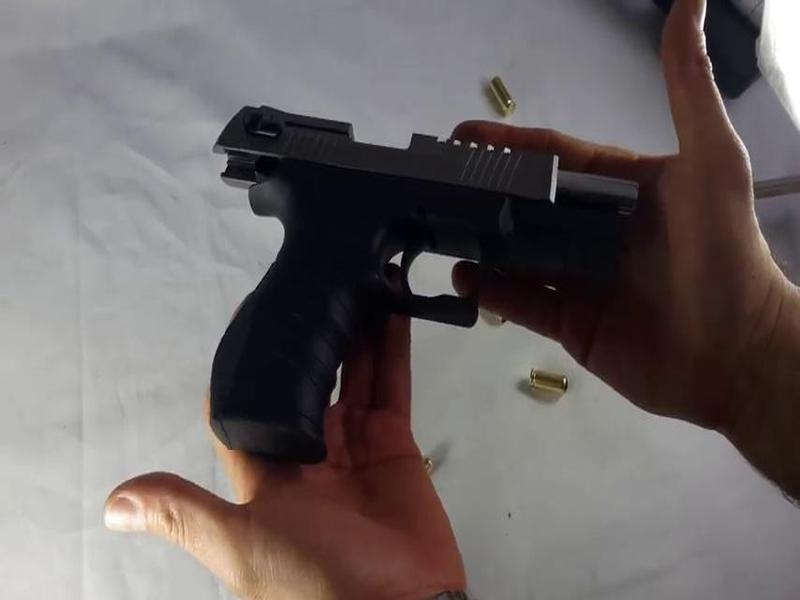Pistola: (180, 84, 685, 465)
